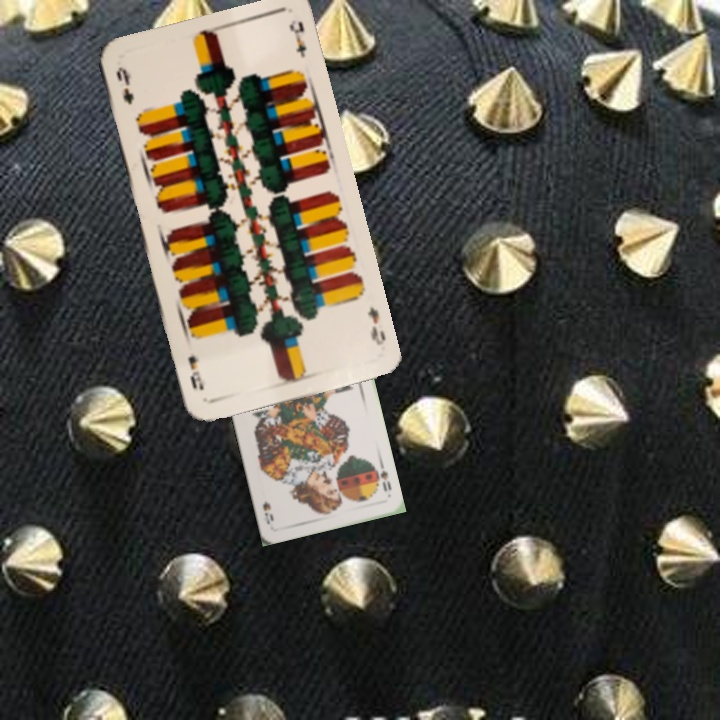E9: (363, 302, 388, 348), (112, 63, 137, 107)
SO: (370, 461, 394, 494)
